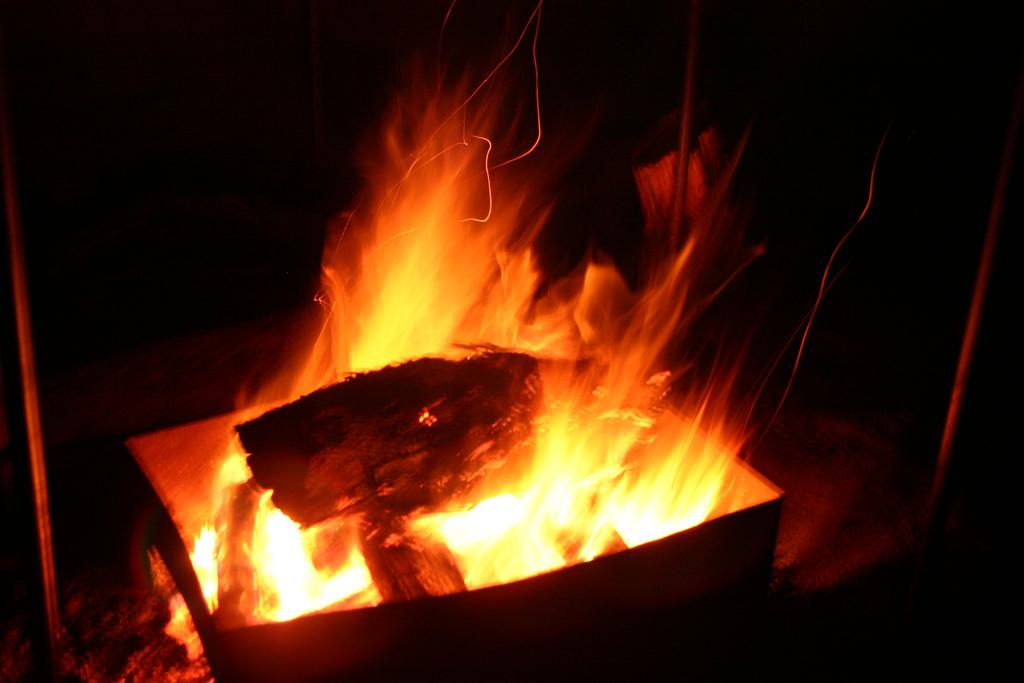fire: (363, 190, 482, 352), (548, 405, 678, 522), (458, 502, 560, 572), (258, 532, 307, 608)
